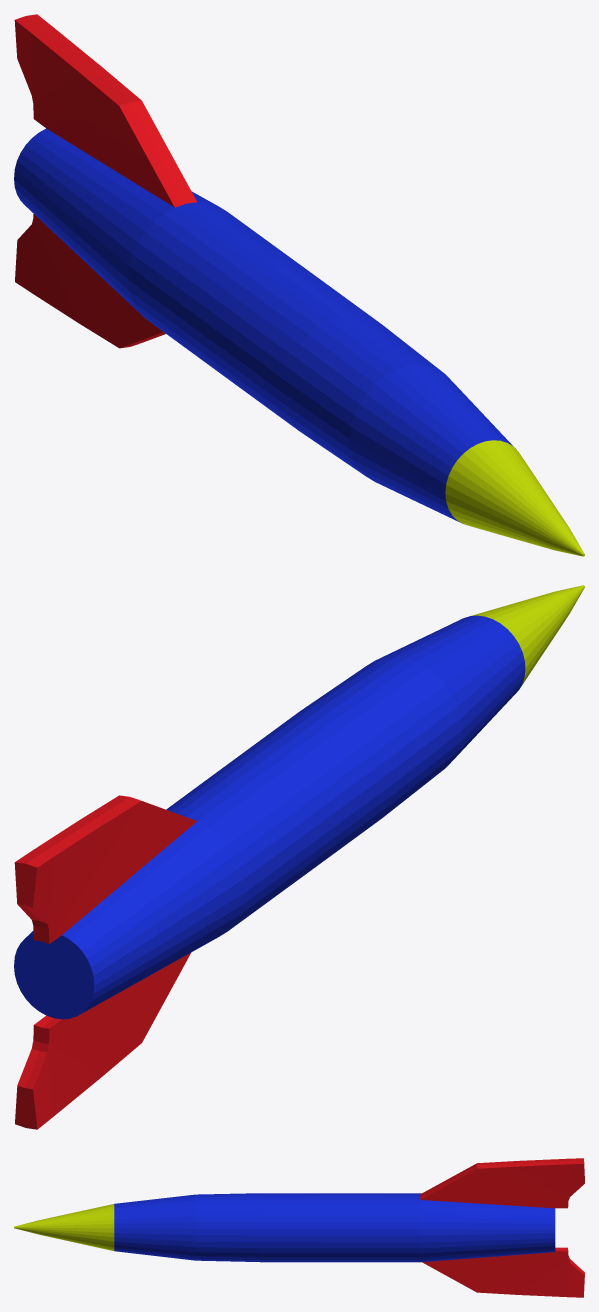
File: missle1.fbx
3 views of the same model, one above another, from view 1: azimuth 30°, elevation 25°; view 2: azimuth 150°, elevation 25°; view 3: azimuth 270°, elevation 25° (orthographic). The views are drawn at different scales.
Parts seen in each view (by area): view 1: missleLP; view 2: missleLP; view 3: missleLP.
Boxes of the visible parts, x1,y1,x2,y2 form: missleLP: [14, 14, 584, 556]; missleLP: [14, 585, 584, 1129]; missleLP: [14, 1158, 584, 1297].
Size of the model in its own units: 47.54 by 103 by 396.
